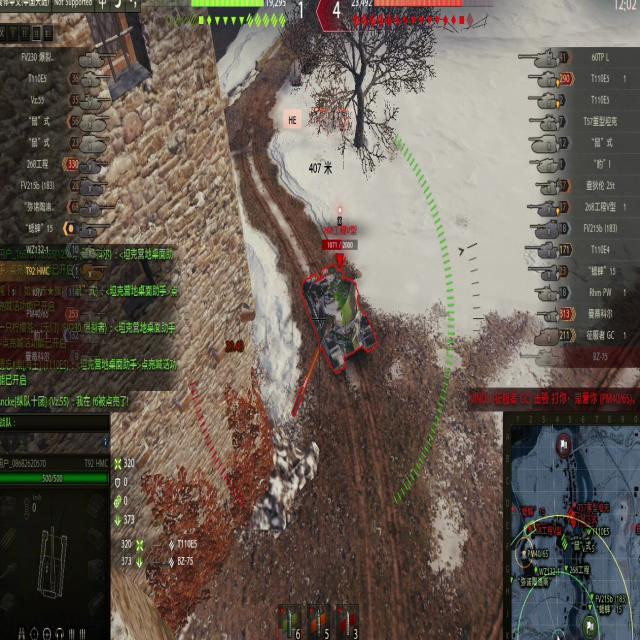tank: (294, 236, 378, 380)
